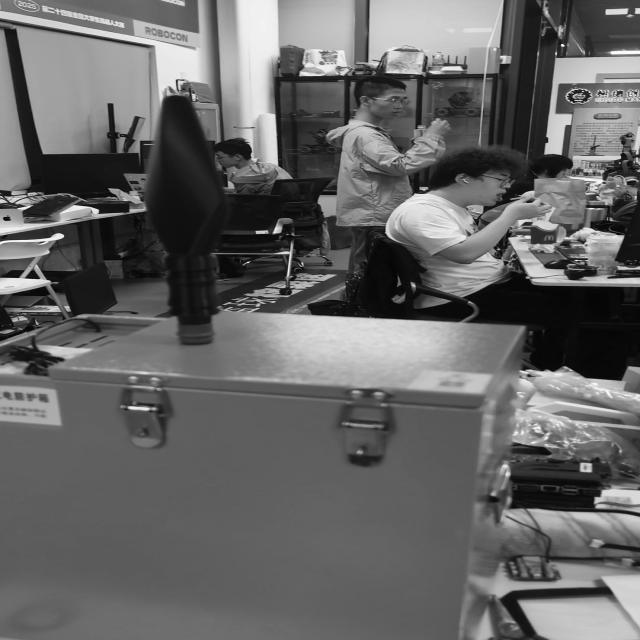base: (175, 322, 215, 346)
